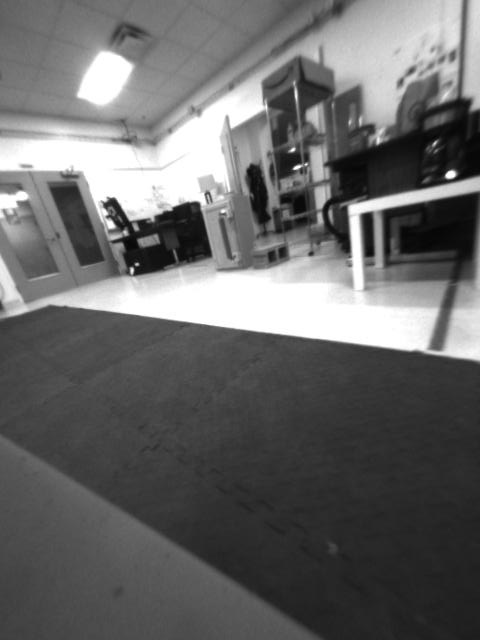coffee_pot: (412, 97, 475, 186)
